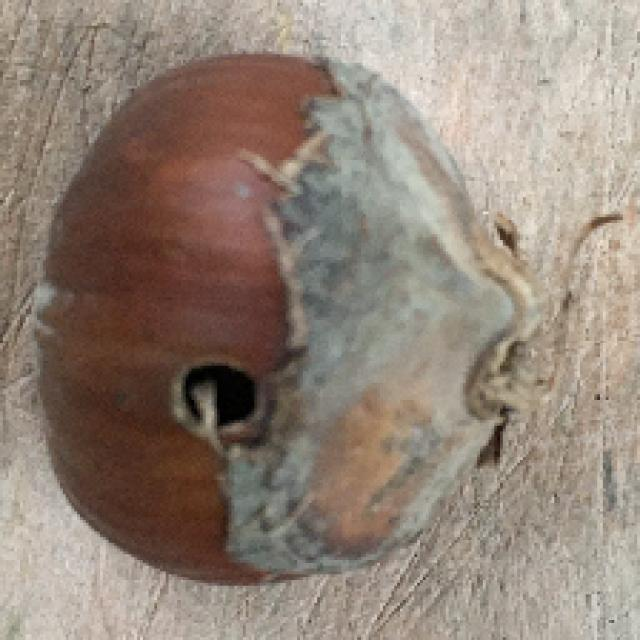damagedHazelnut: (31, 44, 529, 596)
